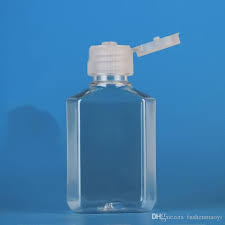available: (63, 47, 163, 214)
